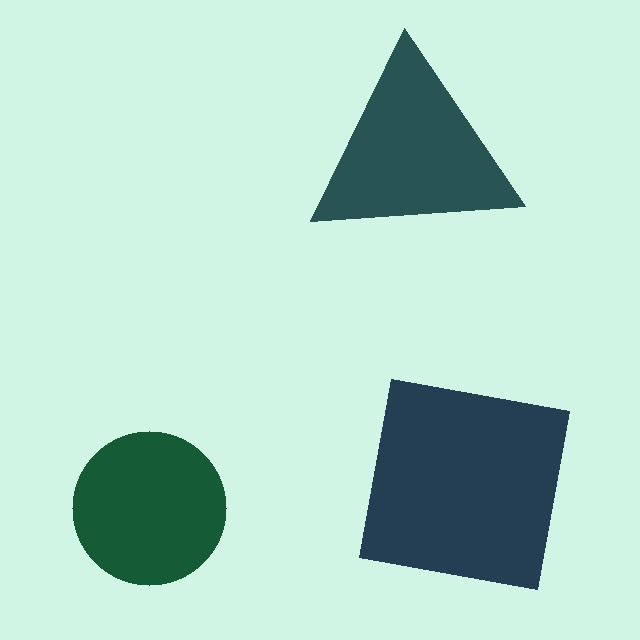circle: (72, 430, 227, 586)
square: (358, 378, 570, 590)
triangle: (310, 27, 526, 221)
